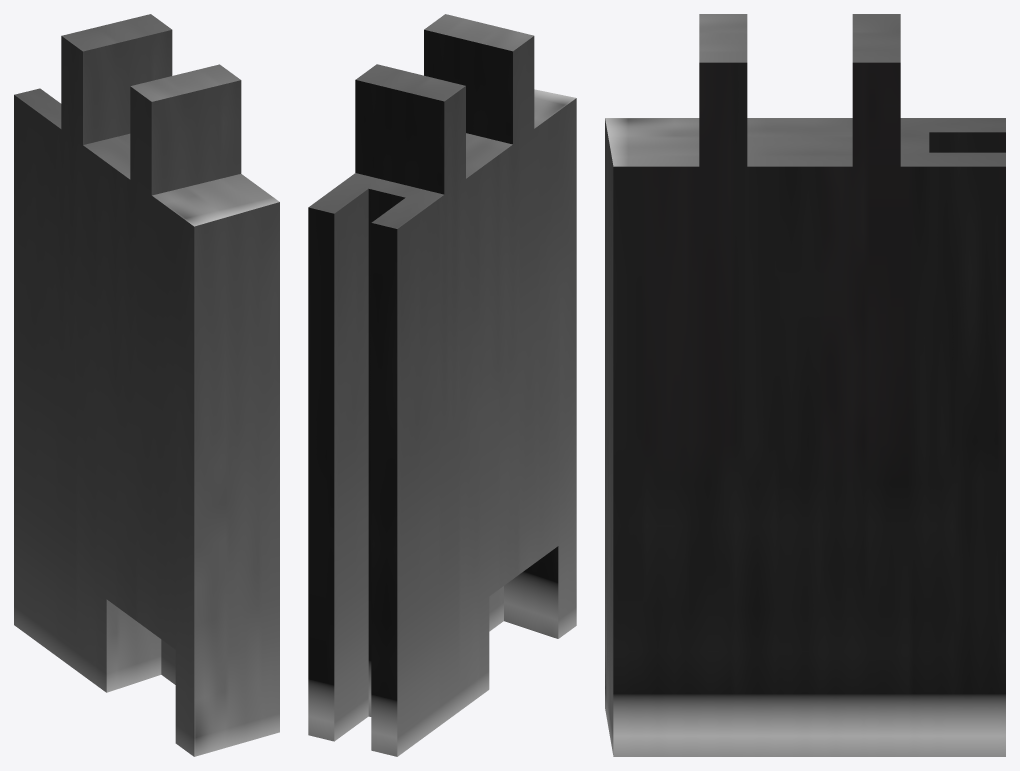
Rendered from original-34.obj.
The picture shows the model from 3 angles, left to right: view 1: azimuth 30°, elevation 25°; view 2: azimuth 150°, elevation 25°; view 3: azimuth 270°, elevation 25°; orthographic projection. The views are drawn at different scales.
Visible parts, largest first — view 1: Divider_End_Cap2/Divider_End_Cap12/mesh78/mesh78-geometry#mesh78; view 2: Divider_End_Cap2/Divider_End_Cap12/mesh78/mesh78-geometry#mesh78; view 3: Divider_End_Cap2/Divider_End_Cap12/mesh78/mesh78-geometry#mesh78.
Part boxes in pixels (x1,y1,x2,y2): Divider_End_Cap2/Divider_End_Cap12/mesh78/mesh78-geometry#mesh78: (14, 14, 279, 756); Divider_End_Cap2/Divider_End_Cap12/mesh78/mesh78-geometry#mesh78: (308, 14, 576, 756); Divider_End_Cap2/Divider_End_Cap12/mesh78/mesh78-geometry#mesh78: (605, 14, 1005, 756).
Size of the model in its own units: 0.0222 by 0.1482 by 0.0775.
